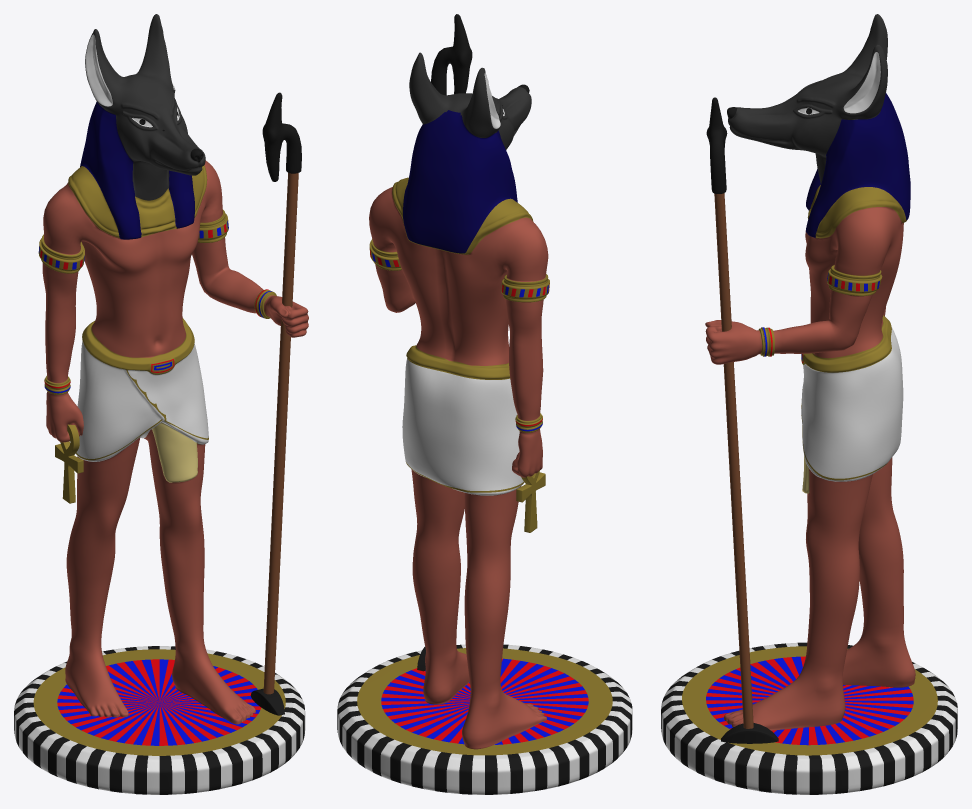
Rendered from Anubis.fbx.
The picture shows the model from 3 angles, left to right: view 1: azimuth 30°, elevation 25°; view 2: azimuth 150°, elevation 25°; view 3: azimuth 270°, elevation 25°; orthographic projection. The views are drawn at different scales.
Parts seen in each view (by area): view 1: 16789_Anubis_v1_NEW; view 2: 16789_Anubis_v1_NEW; view 3: 16789_Anubis_v1_NEW.
Part boxes in pixels (x1=…): 16789_Anubis_v1_NEW: x1=14, y1=14, x2=308, y2=794; 16789_Anubis_v1_NEW: x1=337, y1=14, x2=632, y2=794; 16789_Anubis_v1_NEW: x1=661, y1=14, x2=957, y2=794.
Size of the model in its own units: 400 by 1045 by 399.
